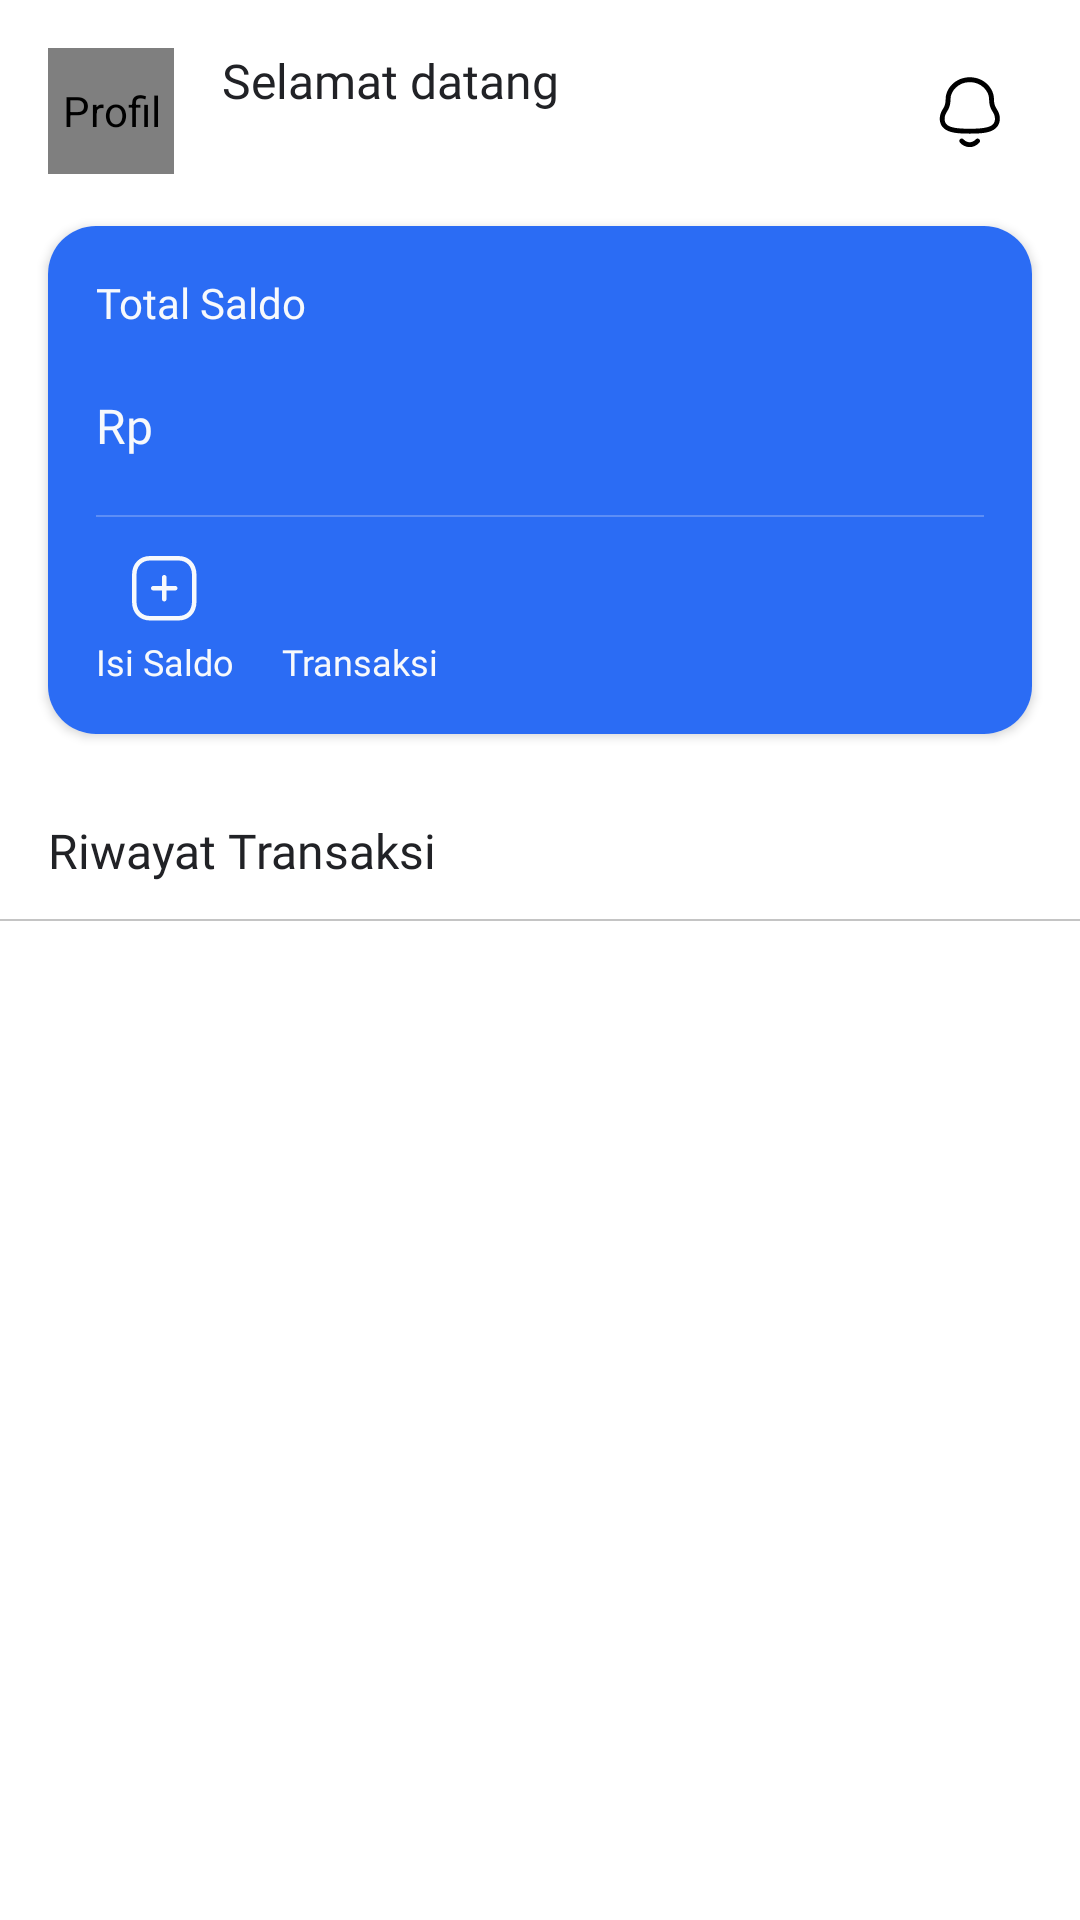

Named icons in this screenshot (1080px x 1920px) and their centers, (x,y):
Notifikasi: (969,112)
